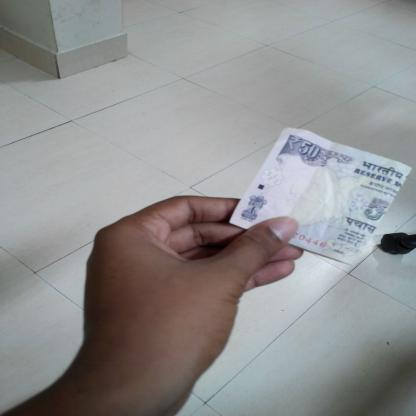Old50Front: (230, 127, 412, 265)
